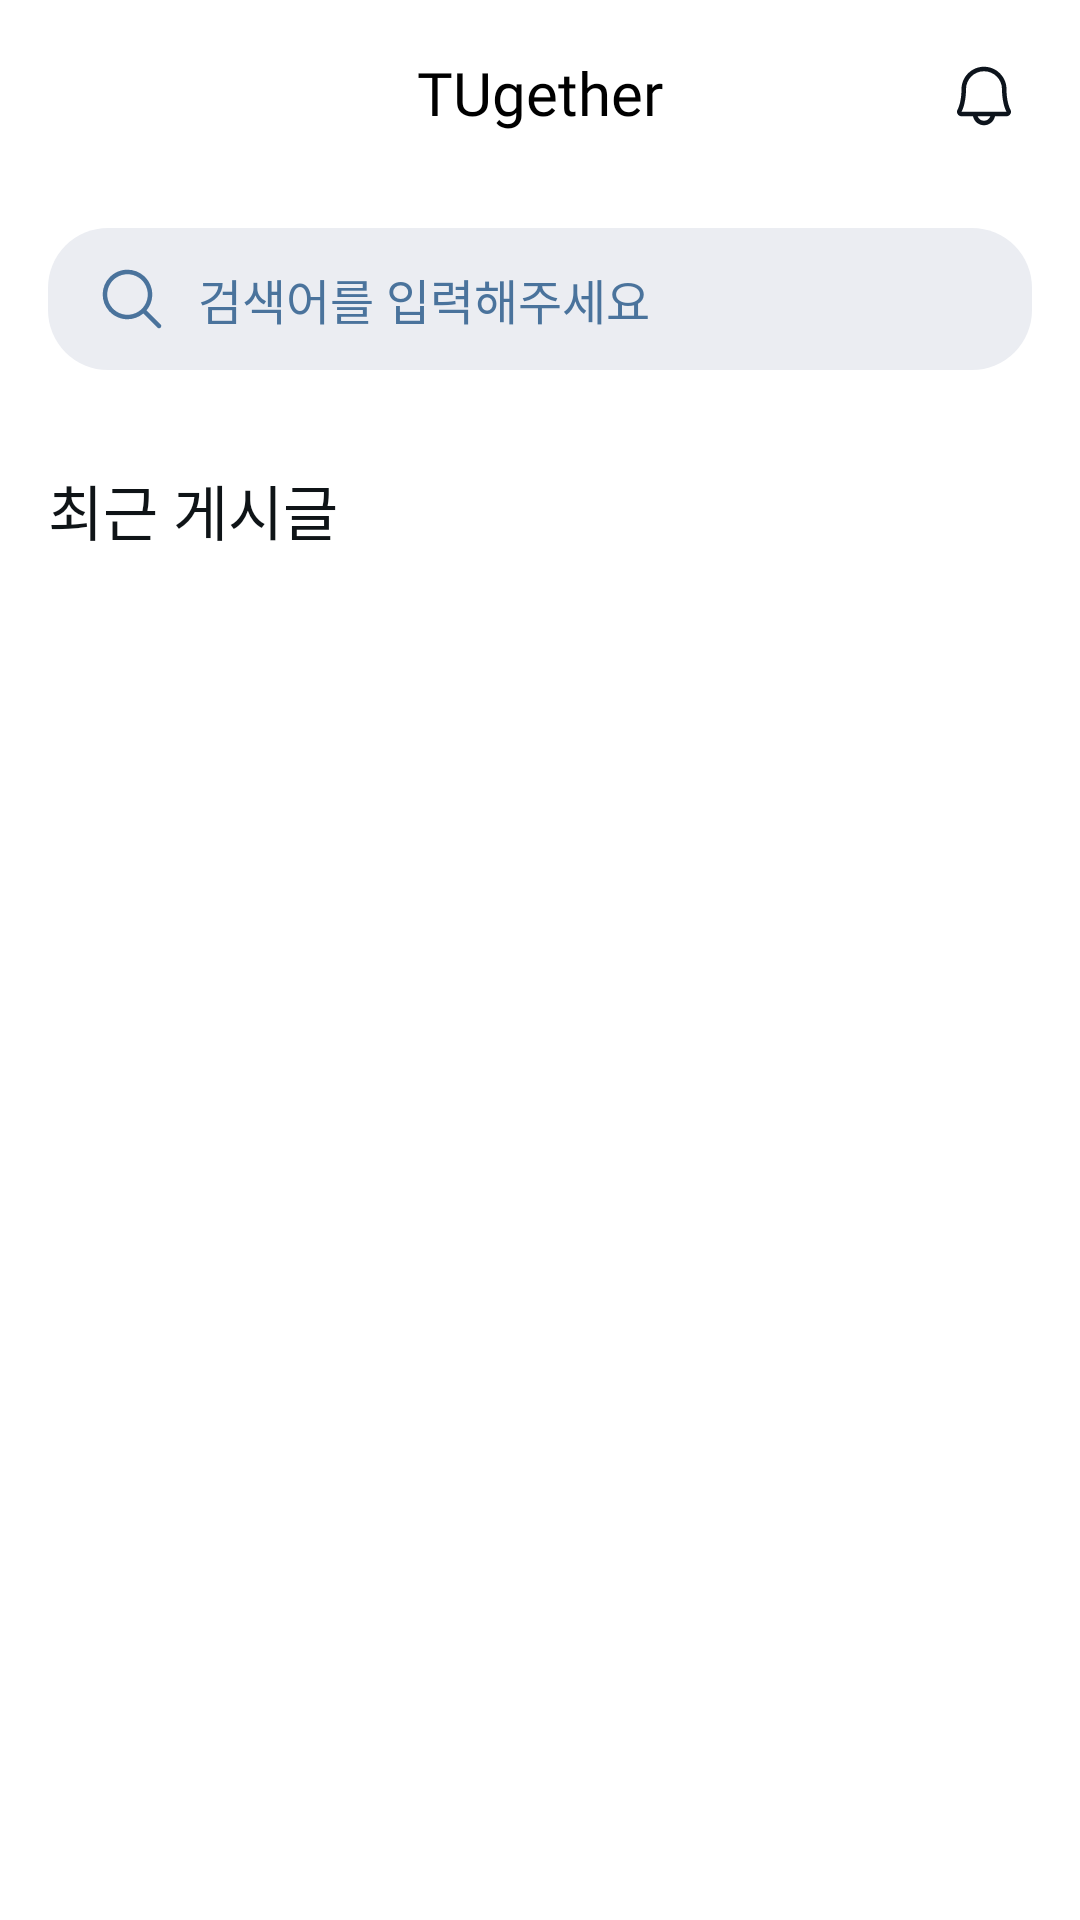

Where to tap for icons on this 1080w x 1920h app screen, as (x=x, y=y):
alarm: (x=984, y=96)
search: (x=132, y=299)
